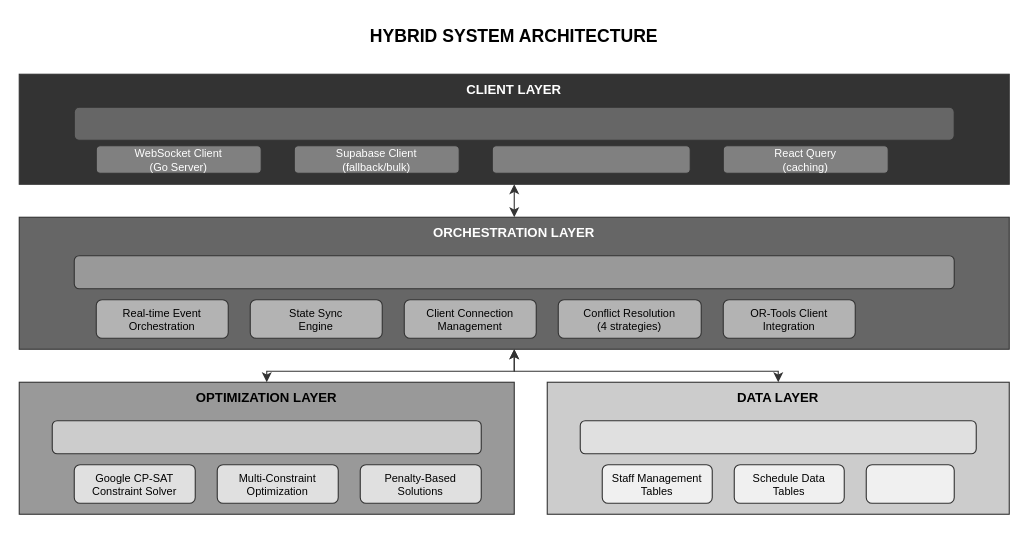
This 1029x534 diagram has some shape labels left out. Here are the shapes that lost their labels. From the top down, the centre of each, then its label:
At (513,123): "React Application".
At (590,159): "State Management (single source of truth)".
At (513,272): "Go WebSocket Server (Port 8080)".
At (266,437): "Python OR-Tools Service (Port 5000)".
At (777,437): "Supabase PostgreSQL".
At (909,483): "Change Log".
